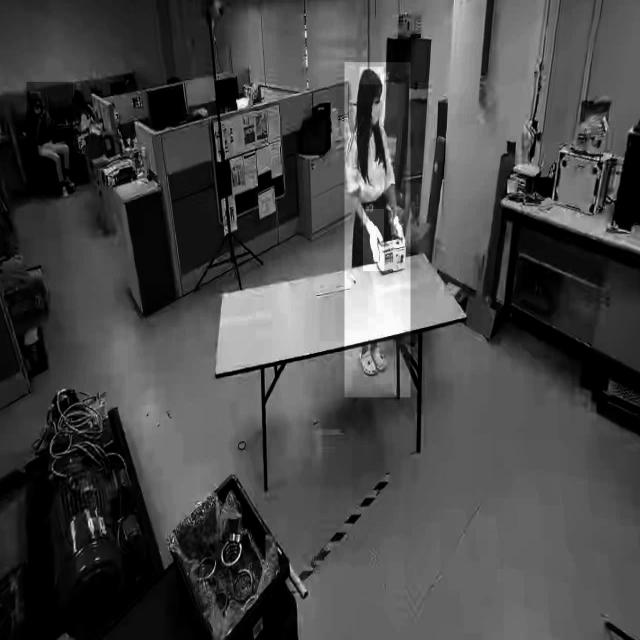face_mask: (363, 89, 385, 123)
hand_glove: (362, 209, 384, 272), (392, 208, 412, 257)
head_nohelmet: (359, 67, 384, 85), (74, 90, 84, 100), (30, 92, 40, 100)
person: (344, 62, 410, 398), (26, 81, 73, 196)
